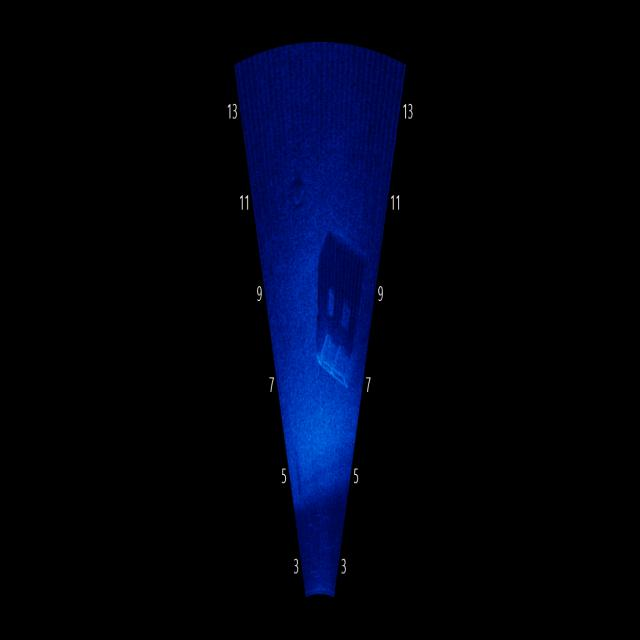square: (308, 307, 360, 403)
